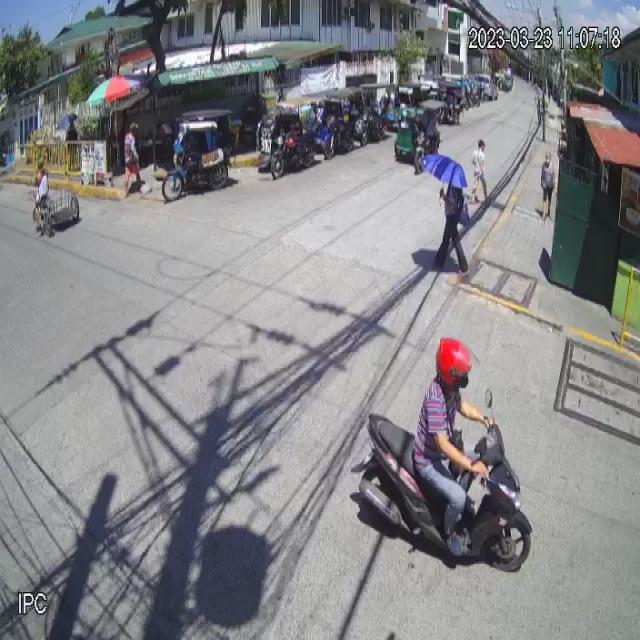Motorcycle: (353, 402, 531, 576)
